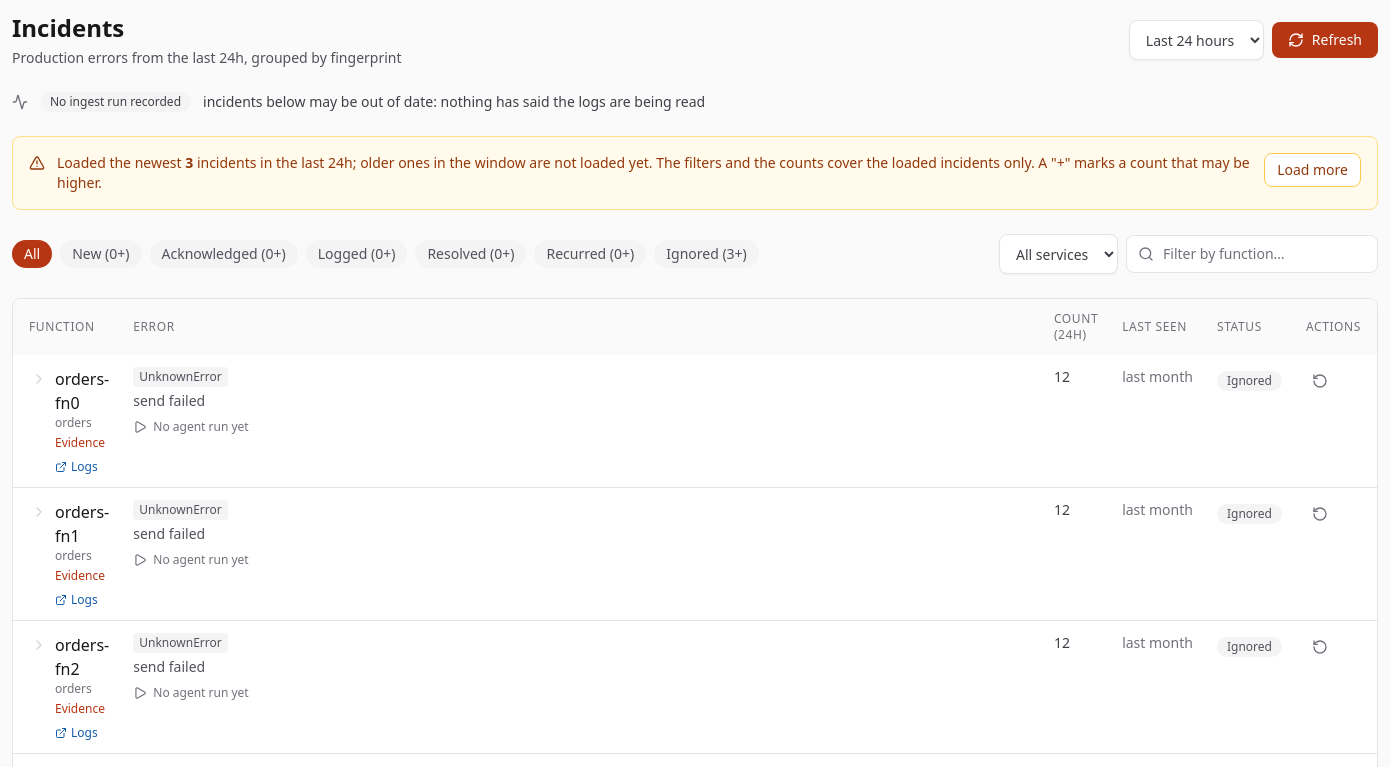
Test: Incidents page › reaches an unresolved incident past the first page with Load more, and counts it (#388)
Check: the text "orders-fn0" is shown, box left=55, top=367, right=109, bottom=415
Click the button "New (0+)": (101, 254) left=60, top=240, right=142, bottom=268
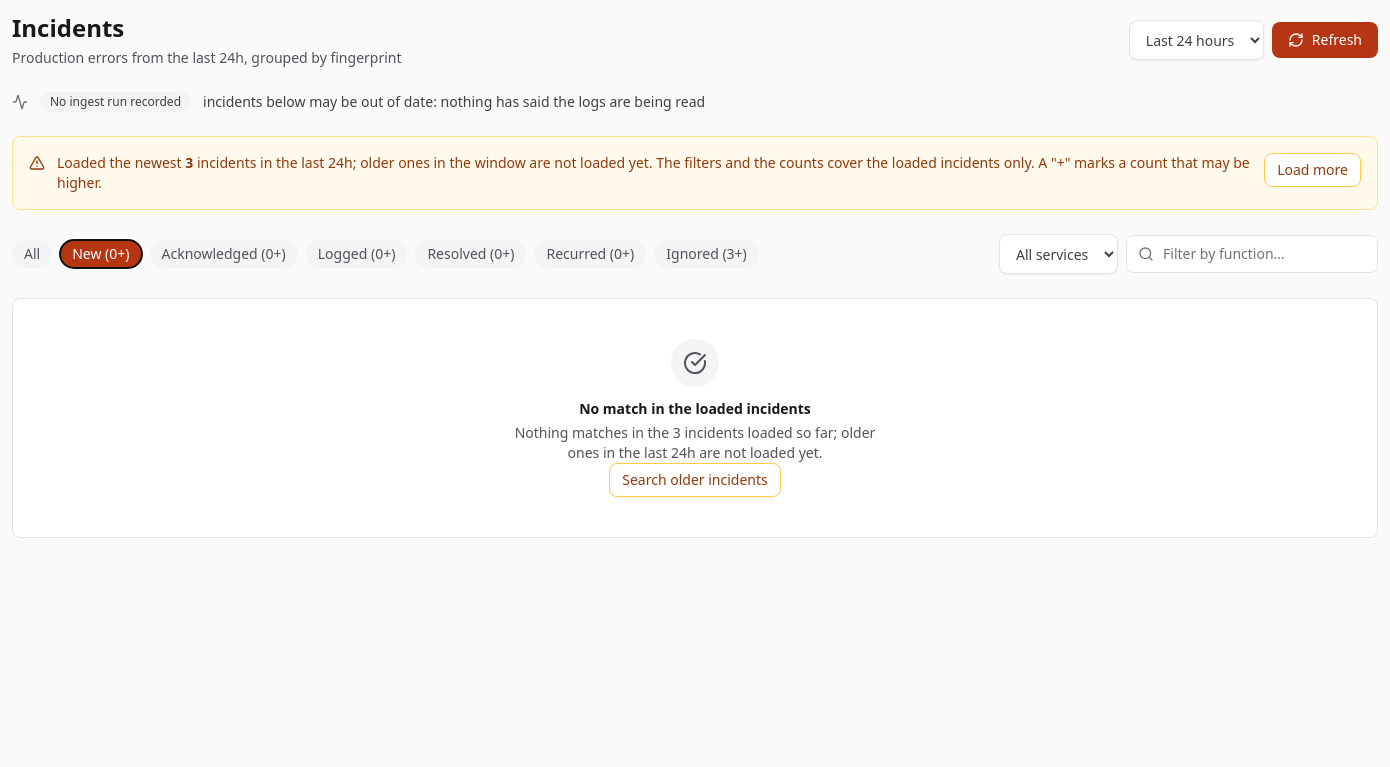
Check: the heading "No match in the loaded incidents" is shown, box left=579, top=399, right=811, bottom=419
Click the button "Search older incidents": (695, 480) left=609, top=463, right=781, bottom=497
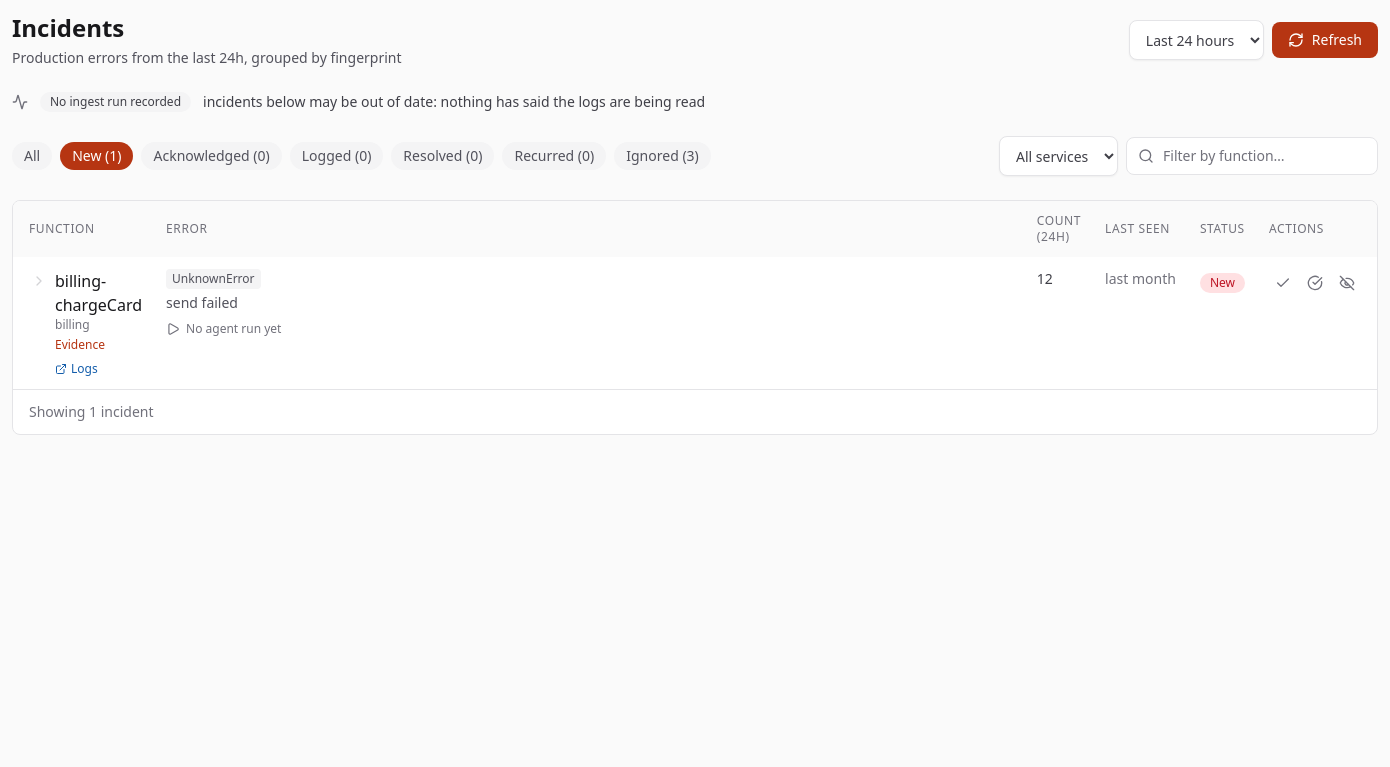
Check: the text "billing-chargeCard" is shown, box left=55, top=269, right=142, bottom=317
Check: the button "New (1)" is shown, box left=60, top=142, right=134, bottom=170
Check: the text "not loaded yet" is gone
